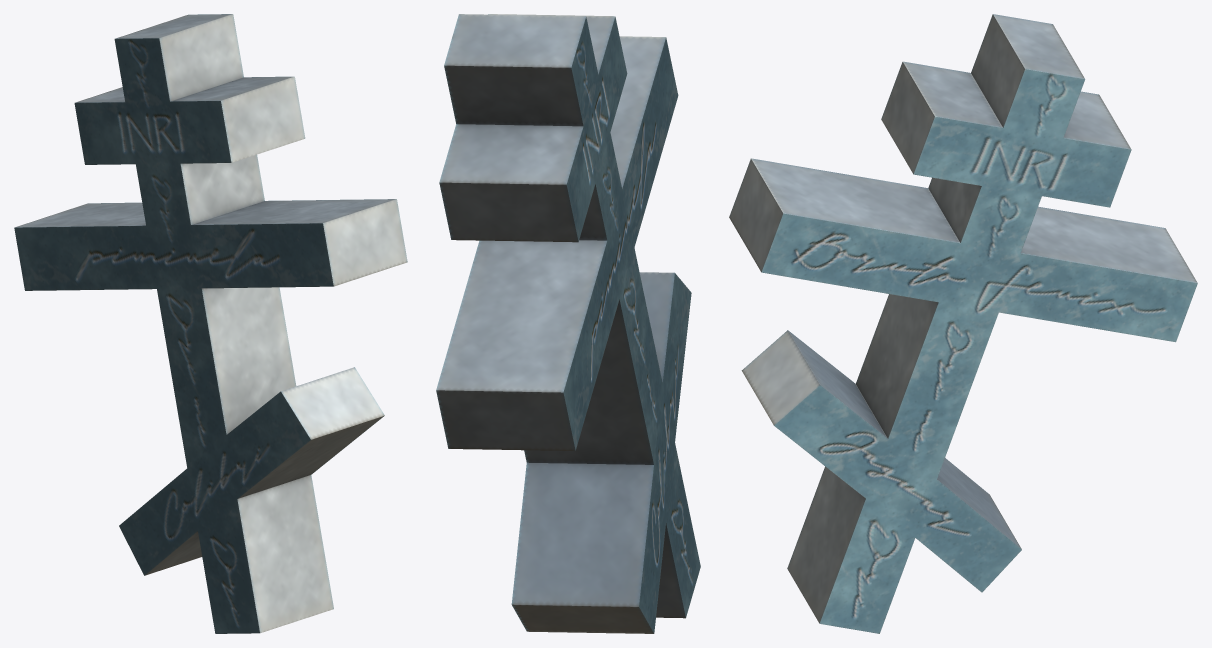
The picture shows the model from 3 angles, left to right: view 1: azimuth 30°, elevation 25°; view 2: azimuth 150°, elevation 25°; view 3: azimuth 270°, elevation 25°; orthographic projection. The views are drawn at different scales.
Visible parts, largest first — view 1: Cruz_Orto_Cube.011; view 2: Cruz_Orto_Cube.011; view 3: Cruz_Orto_Cube.011.
Boxes of the visible parts, <box> form: Cruz_Orto_Cube.011: <box>14,14,407,633</box>; Cruz_Orto_Cube.011: <box>436,14,700,633</box>; Cruz_Orto_Cube.011: <box>729,14,1197,633</box>.
Bounding box in the file's own units: 1.03 × 2.69 × 1.97.
